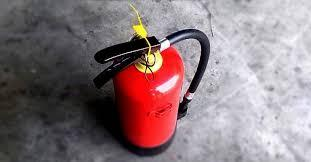floor-kept: (89, 0, 215, 156)
